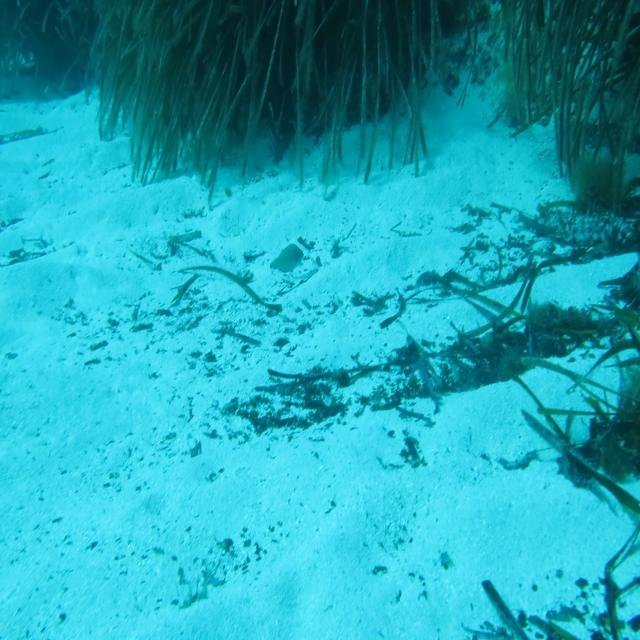SA: (257, 238, 310, 282)
vegetation: (0, 0, 640, 156), (387, 289, 640, 374)
